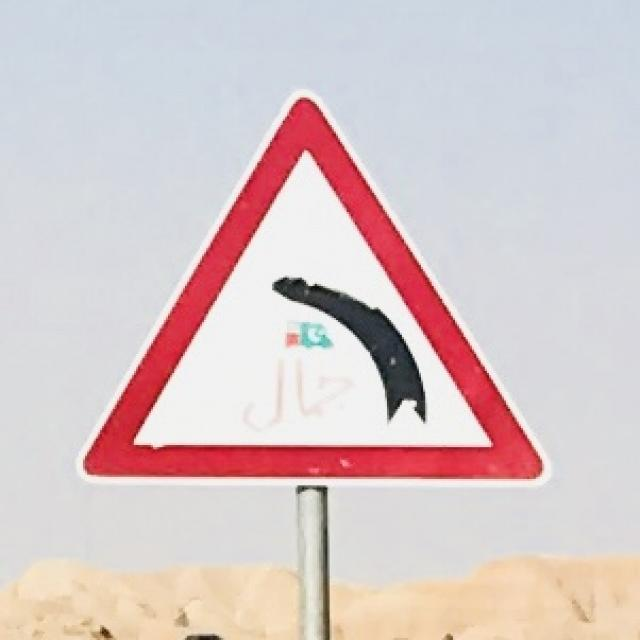left hand curve: (76, 86, 534, 481)
